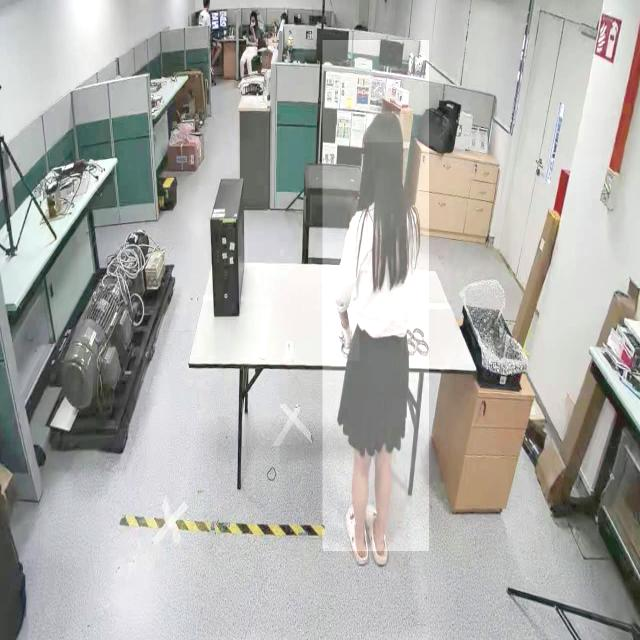face_mask: (249, 14, 255, 36)
hand_glove: (335, 319, 359, 362)
head_nohelmet: (364, 111, 404, 143), (250, 10, 258, 16)
person: (322, 40, 429, 552), (238, 0, 262, 82)
